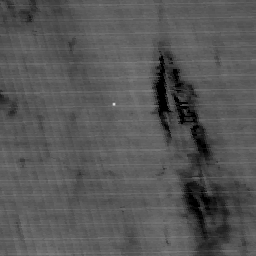Target: (110, 101, 117, 107)
